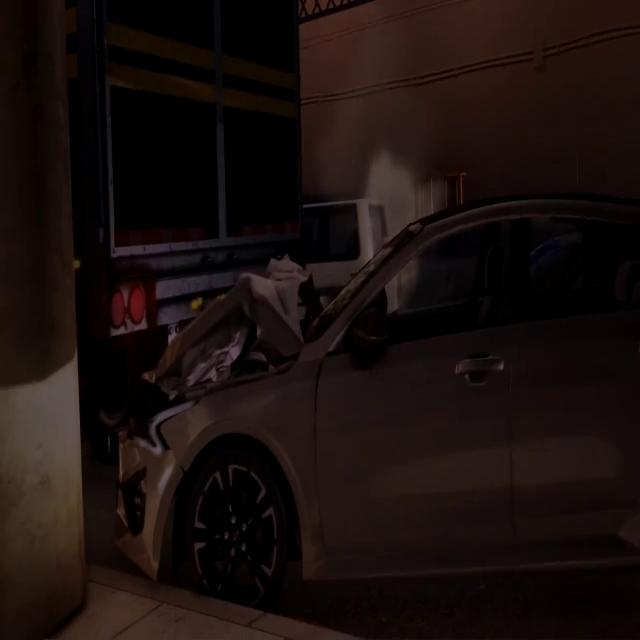accident: (76, 0, 637, 609)
